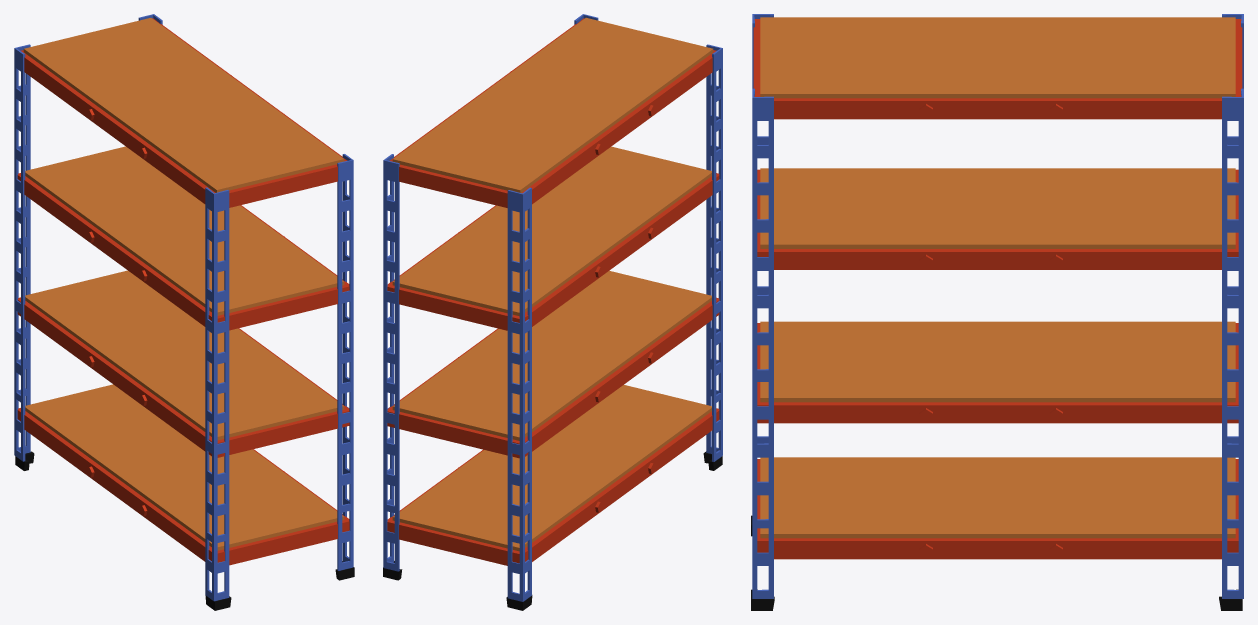
File: WarehouseShelving.obj
The picture shows the model from 3 angles, left to right: view 1: azimuth 30°, elevation 25°; view 2: azimuth 150°, elevation 25°; view 3: azimuth 270°, elevation 25°; orthographic projection. The views are drawn at different scales.
Visible parts, largest first — view 1: Shelf_Cube.004; view 2: Shelf_Cube.004; view 3: Shelf_Cube.004.
Boxes of the visible parts, left/top/right/bottom form: Shelf_Cube.004: left=14, top=14, right=354, bottom=610; Shelf_Cube.004: left=383, top=14, right=722, bottom=610; Shelf_Cube.004: left=751, top=14, right=1243, bottom=610.
Size of the model in its own units: 0.8729 by 2.44 by 2.13.
